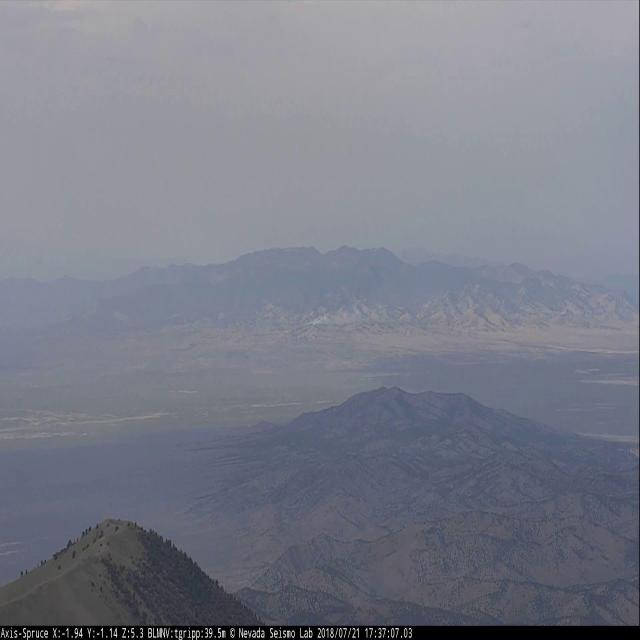smoke: (301, 305, 394, 330)
